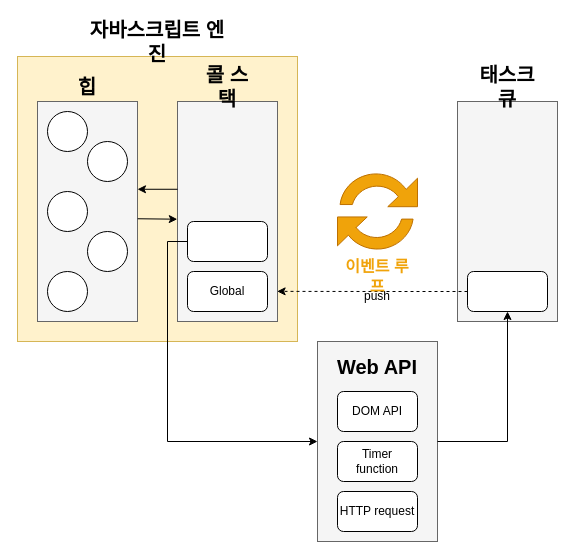
Some shapes in this 575 by 559 pixel diagram are drawn without their labels. The box of each missing label's shape, as (x1, y1, x2, y2) in pixels:
foo: (466, 270, 548, 312)
setTimeout: (186, 220, 268, 262)
